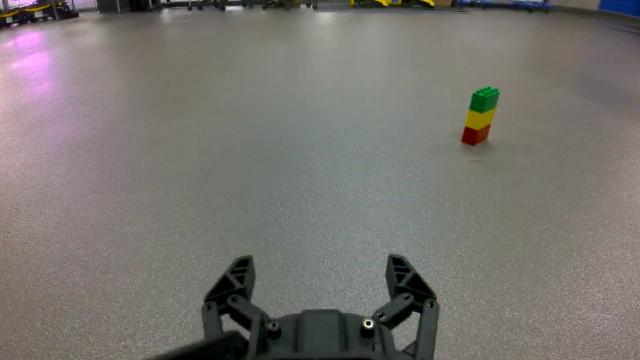lego: (461, 85, 502, 148)
